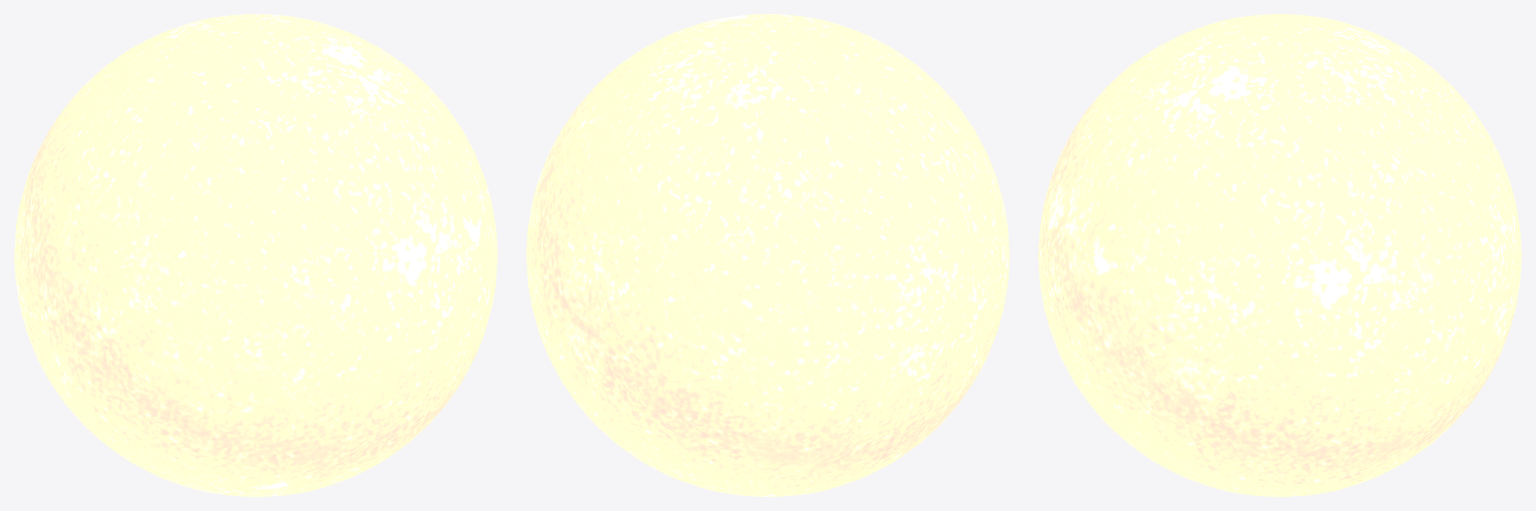
The model's file is sun.glb.
3 renders of one model, left to right at view 1: azimuth 30°, elevation 25°; view 2: azimuth 150°, elevation 25°; view 3: azimuth 270°, elevation 25°, orthographic.
Parts seen in each view (by area): view 1: Node2; view 2: Node2; view 3: Node2.
Boxes of the visible parts, box(x1,y1,x2,y2) form: Node2: box(14, 14, 497, 496); Node2: box(526, 14, 1009, 496); Node2: box(1038, 14, 1521, 496).
Bounding box in the file's own units: 20.2 × 20.2 × 20.2.
Materials: 2 (2 with a texture image).
